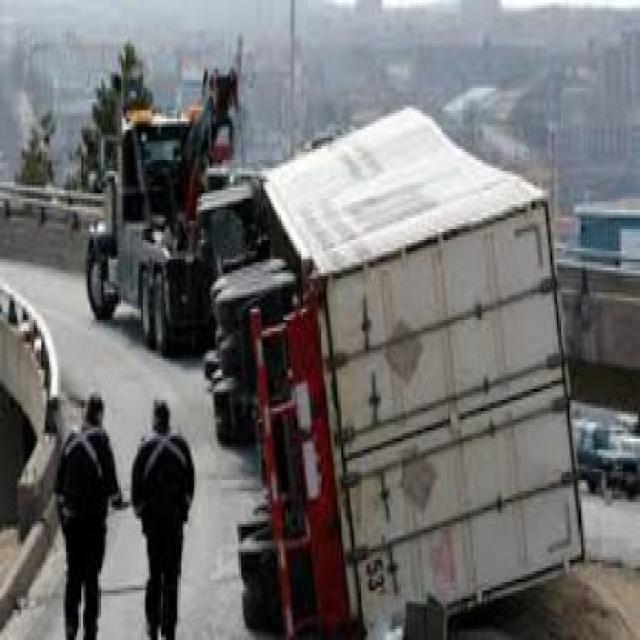accident: (77, 71, 600, 632)
